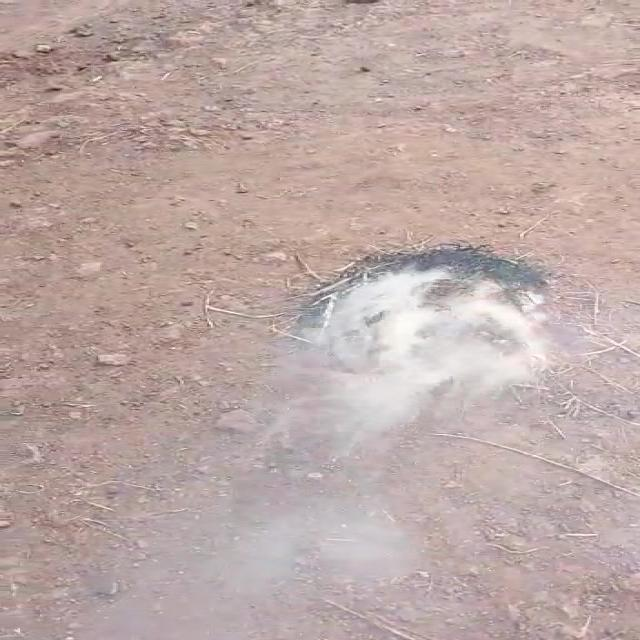Smoke: (325, 245, 547, 437)
